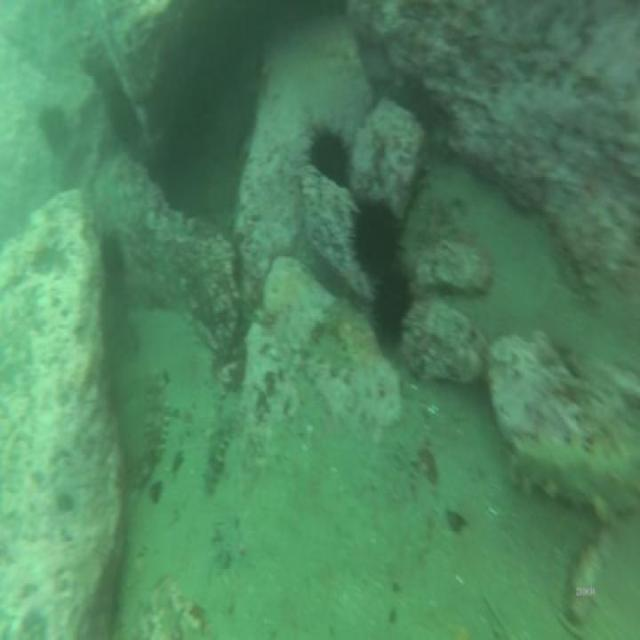echinus: (348, 198, 406, 280), (365, 270, 418, 346), (303, 120, 353, 191), (39, 104, 69, 158), (100, 220, 126, 280)
holothurian: (509, 425, 640, 525), (135, 370, 170, 488), (207, 417, 236, 490)
